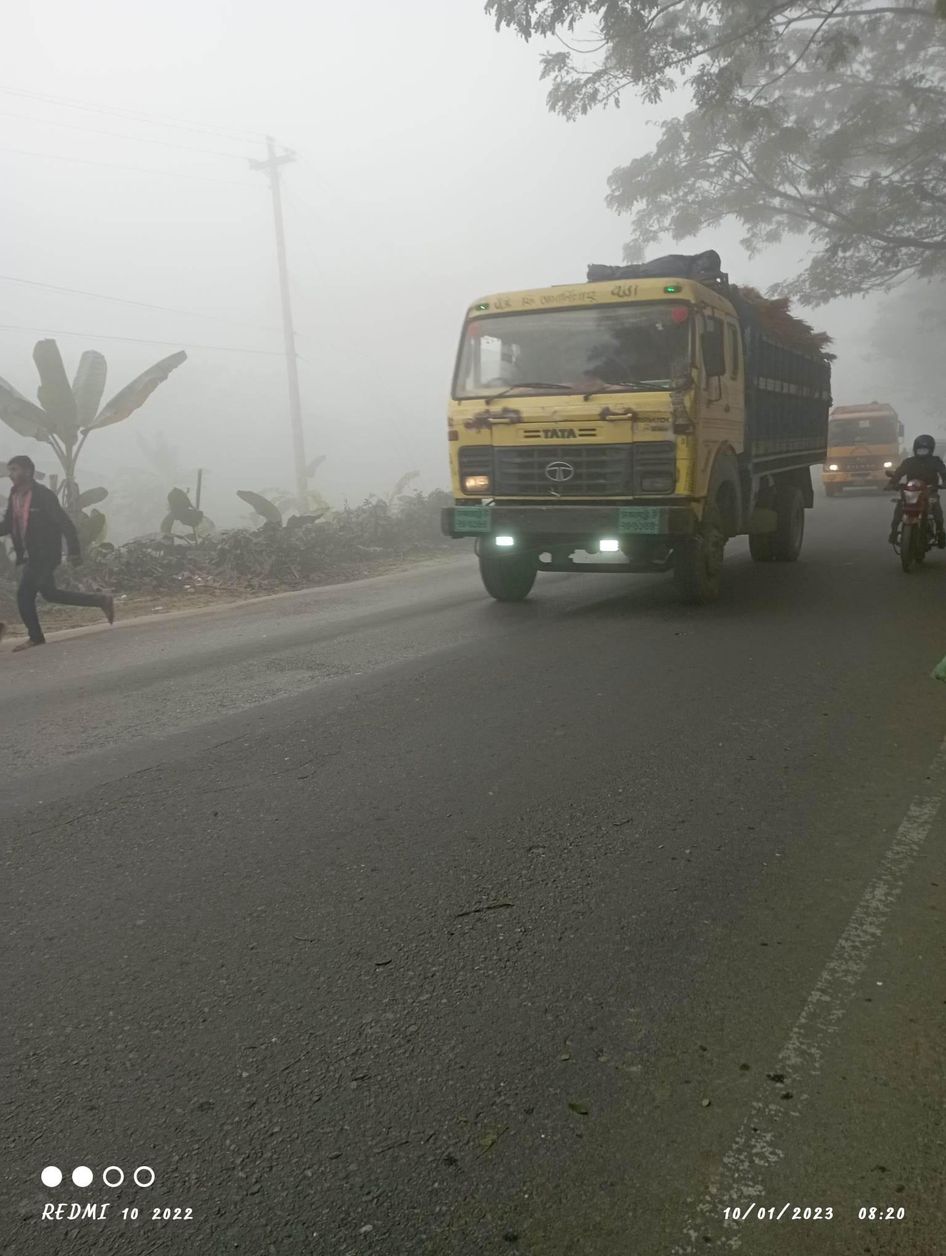Bike: (875, 432, 943, 579)
Truck: (429, 225, 838, 599), (828, 389, 906, 518)
